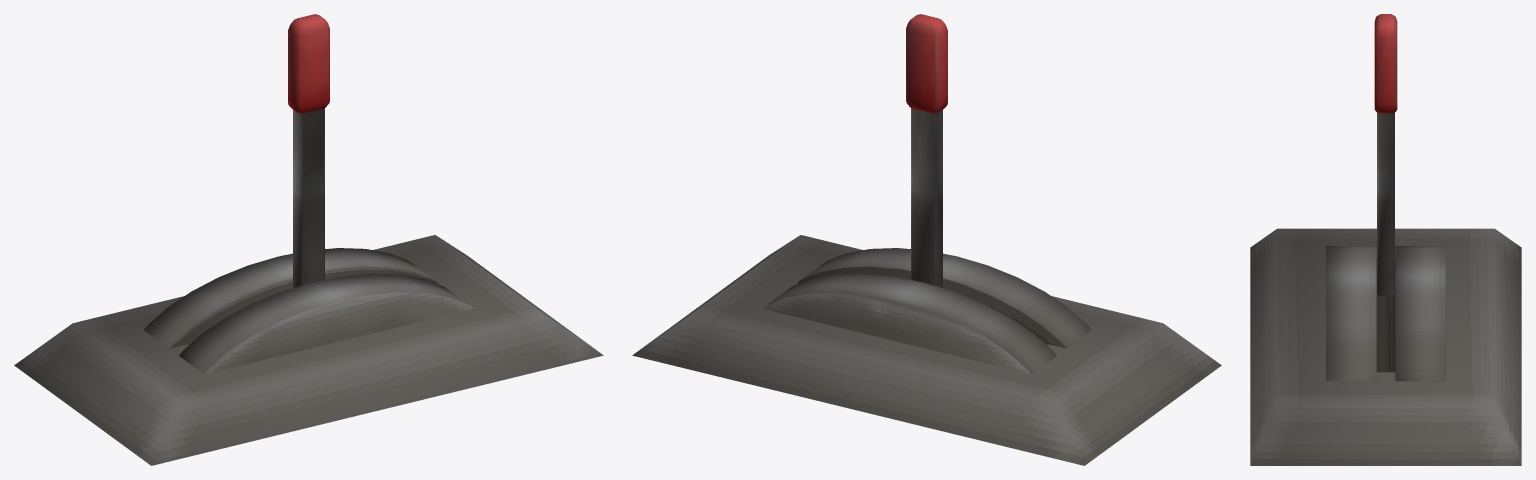
Rendered from lever.glb.
3 views of the same model, side by side, from view 1: azimuth 30°, elevation 25°; view 2: azimuth 150°, elevation 25°; view 3: azimuth 270°, elevation 25° (orthographic).
Parts seen in each view (by area): view 1: LeverBase, LeverCasing, LeverHandle; view 2: LeverBase, LeverCasing, LeverHandle; view 3: LeverBase, LeverCasing, LeverHandle.
Boxes of the visible parts, bbox=[...] form: LeverBase: bbox=[14, 235, 603, 465]; LeverCasing: bbox=[144, 248, 473, 374]; LeverHandle: bbox=[288, 14, 329, 287]; LeverBase: bbox=[632, 235, 1221, 465]; LeverCasing: bbox=[762, 248, 1091, 374]; LeverHandle: bbox=[906, 14, 947, 287]; LeverBase: bbox=[1250, 228, 1521, 465]; LeverCasing: bbox=[1326, 246, 1445, 381]; LeverHandle: bbox=[1374, 14, 1397, 295].
Size of the model in its own units: 2 by 1.45 by 1.05.
Materials: 3 (3 with a texture image).
